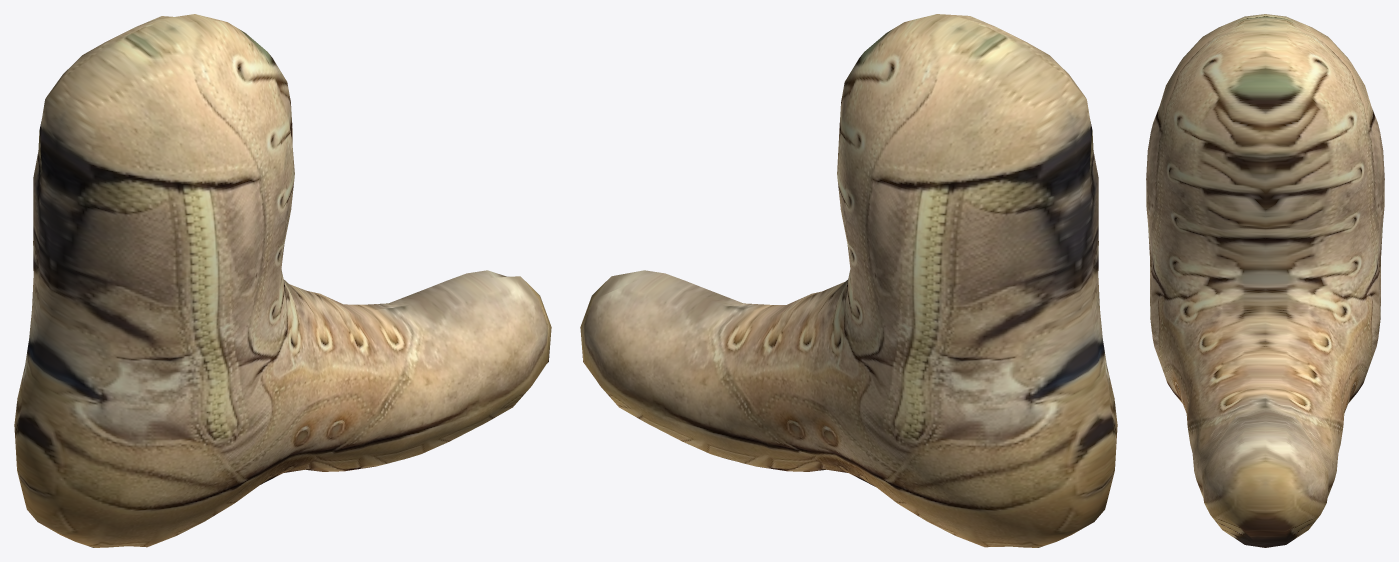
Rendered from lboot.obj.
3 views of the same model, side by side, from view 1: azimuth 30°, elevation 25°; view 2: azimuth 150°, elevation 25°; view 3: azimuth 270°, elevation 25° (orthographic). The views are drawn at different scales.
Bounding box in the file's own units: 1.24 × 1.14 × 0.5779.
